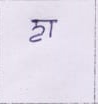aa_matra: (49, 22, 53, 37)
